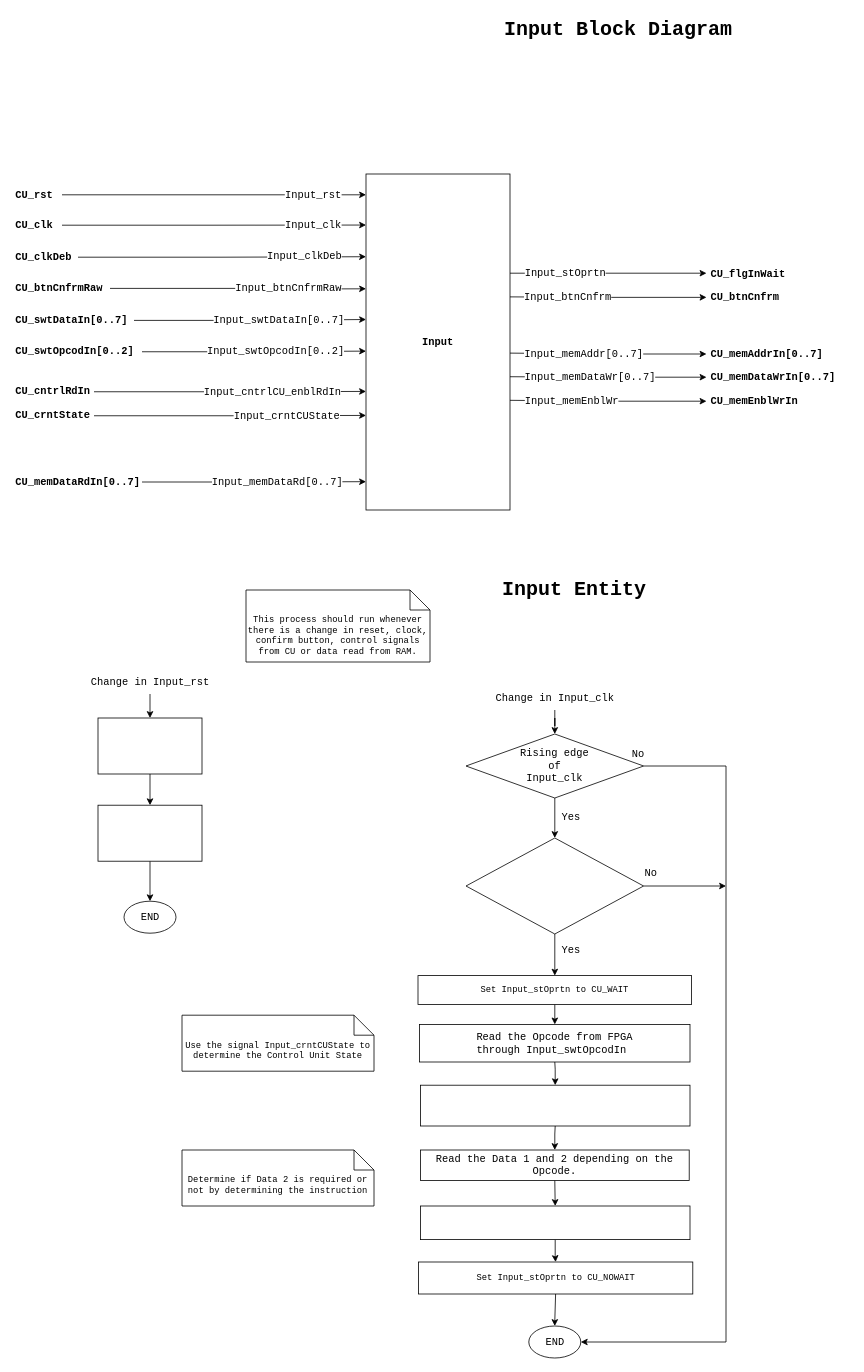
This 864x1372 diagram has some shape labels left out. The box of each missing label's shape, as (x1, y1, x2, y2) in pixels:
Input_stOprtn to CU_NOWAIT: (97, 717, 202, 774)
Is Input_cntrlCU_enblRdIn enabled?: (465, 837, 644, 934)
Reset the contents of internal signals to zero: (97, 804, 202, 861)
Write the Data to the address MEMLAY_DATA1 or MEMLAY_DATA2: (420, 1205, 690, 1240)
Write the Opcode to the address MEMLAY_OPCODE: (420, 1084, 690, 1126)
